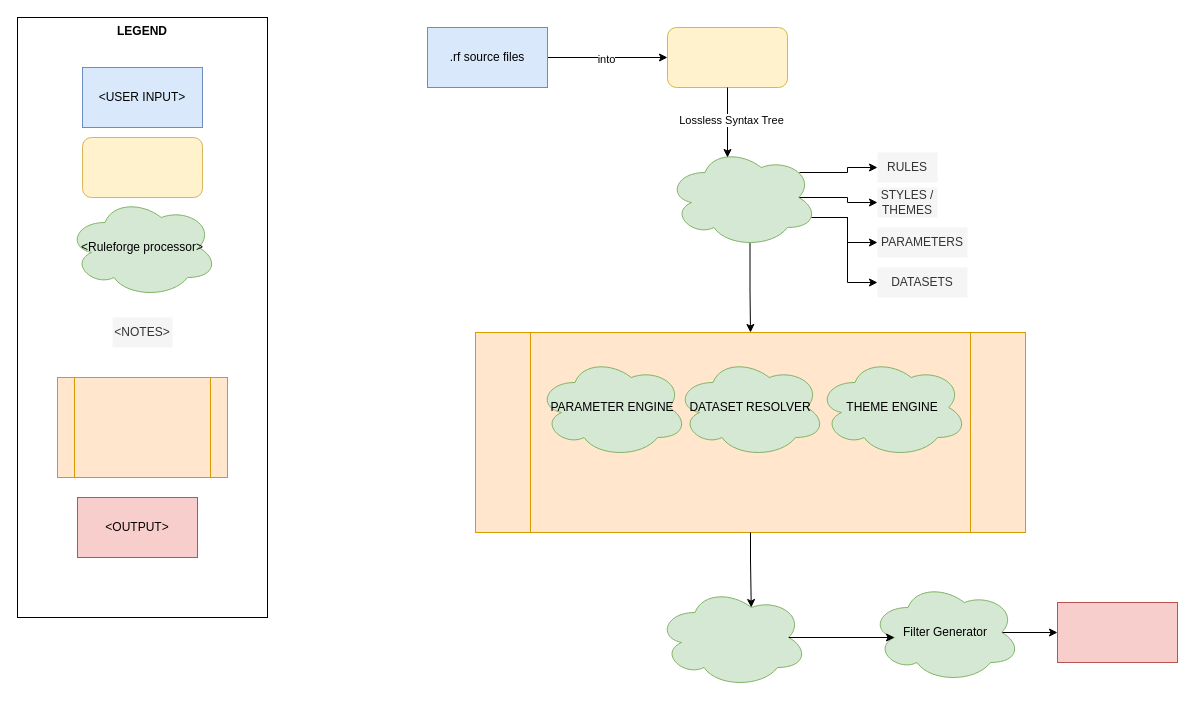
This 1195x705 diagram has some shape labels left out. The shapes that lost their labels are listed below. From the top down, each one's box as (x1, y1, x2, y2) in pixels, then its label:
(666, 26, 788, 88): LangSpec parsing engine
(82, 136, 202, 198): <Libraries/Internals>
(666, 146, 818, 248): Semantic IR / AST PRODUCER
(56, 376, 228, 478): <PHASE>
(474, 332, 1026, 532): RESOLUTION
(656, 586, 808, 688): Rule Expander
(1056, 602, 1178, 662): .filter output
